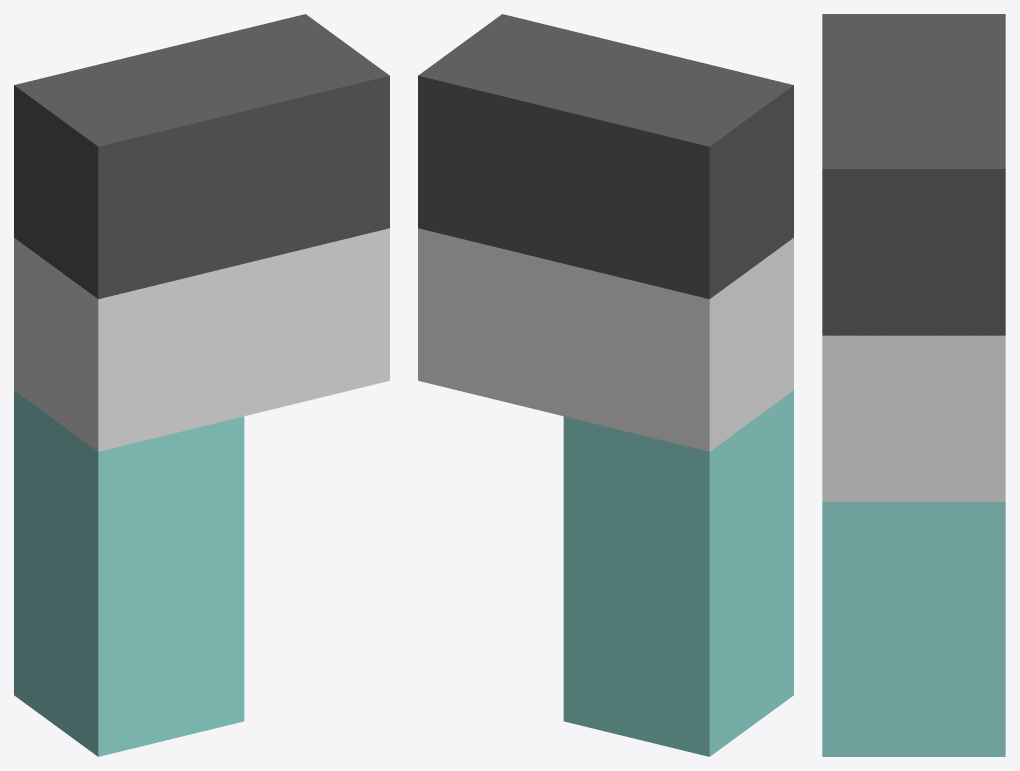
File: 20_mood_drool.glb
The picture shows the model from 3 angles, left to right: view 1: azimuth 30°, elevation 25°; view 2: azimuth 150°, elevation 25°; view 3: azimuth 270°, elevation 25°; orthographic projection. The views are drawn at different scales.
Size of the model in its own units: 2 by 4 by 1.
